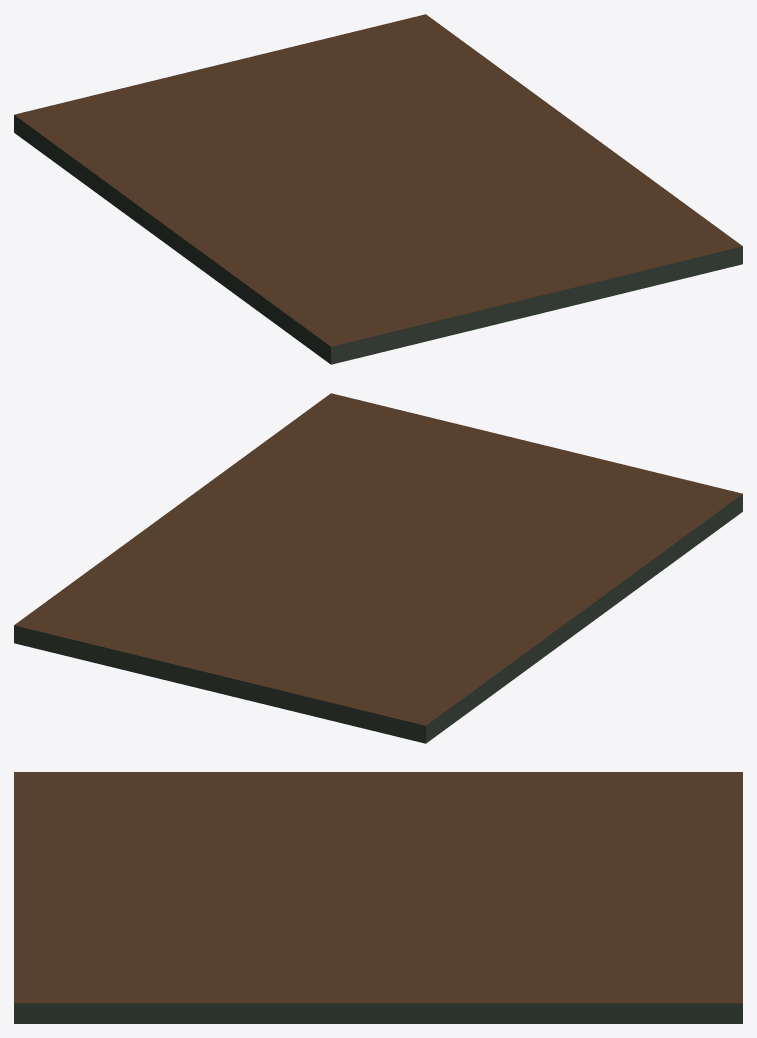
The model's file is full_uneven_flat_reference.dae.
3 views of the same model, one above another, from view 1: azimuth 30°, elevation 25°; view 2: azimuth 150°, elevation 25°; view 3: azimuth 270°, elevation 25° (orthographic). The views are drawn at different scales.
Visible parts, largest first — view 1: terrain_node; view 2: terrain_node; view 3: terrain_node.
Part boxes in pixels (x1,y1,x2,y2): terrain_node: (14, 14, 742, 364); terrain_node: (14, 393, 742, 743); terrain_node: (14, 772, 742, 1023).
Size of the model in its own units: 6 by 8 by 0.25.
